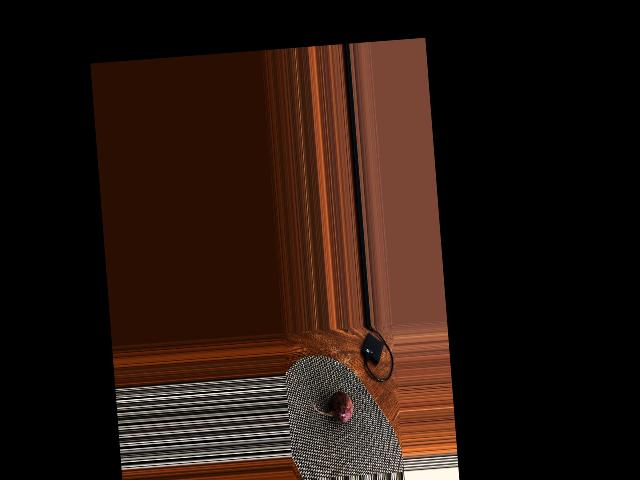beet: (310, 390, 353, 424)
